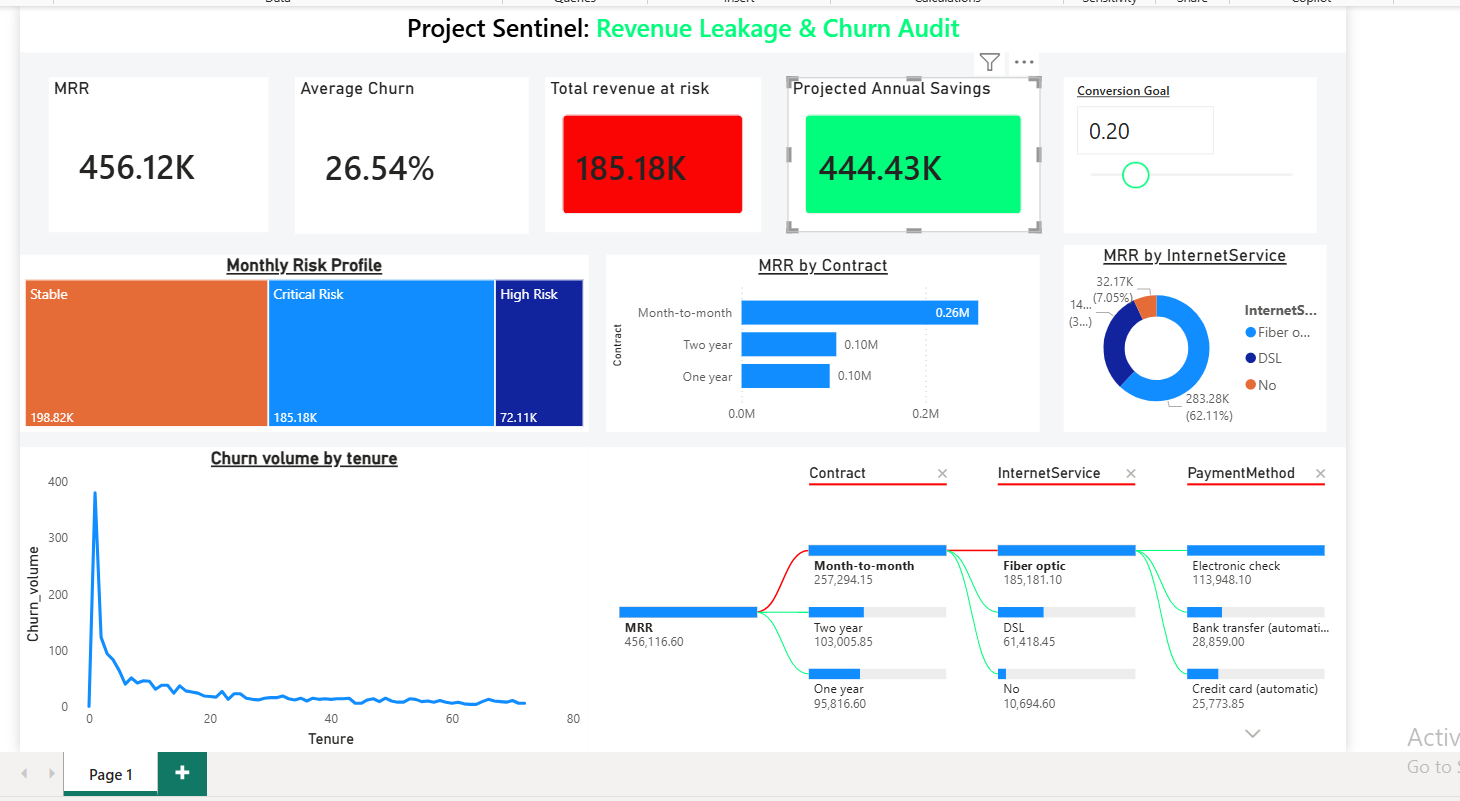

What the dashboard file says about the page in this screenshot:
{"tool":"powerbi","page":{"name":"Page 1","canvas":[1280,720],"ordinal":0},"visuals":[{"type":"cardVisual","title":"MRR","fields":{"Data":["Measures (2).MRR"]},"box":[27.7,68.8,212.3,149.6],"z":1000},{"type":"cardVisual","title":"Total revenue at risk","fields":{"Data":["Measures (2).Revenue_at_risk"]},"box":[506.7,68.8,208.7,149.6],"z":2000},{"type":"decompositionTreeVisual","fields":{"Analyze":["Sum(Project_Sentinel_Cleaned.MonthlyCharges)"],"ExplainBy":["Project_Sentinel_Cleaned.Contract","Project_Sentinel_Cleaned.InternetService","Project_Sentinel_Cleaned.PaymentMethod"]},"box":[548.9,425.9,731.1,294.4],"z":3000},{"type":"lineChart","title":"Churn volume by tenure","fields":{"Category":["Project_Sentinel_Cleaned.tenure"],"Y":["Sum(Project_Sentinel_Cleaned.Churn_encode)"]},"box":[0,425.9,548.9,294.4],"z":4000},{"type":"treemap","title":"Monthly Risk Profile","fields":{"Group":["Project_Sentinel_Cleaned.Revenue_Risk_Status"],"Values":["Sum(Project_Sentinel_Cleaned.MonthlyCharges)"]},"box":[0,240.1,548.9,171.3],"z":5000},{"type":"textbox","box":[0,0,1280,44.6],"z":6000},{"type":"slicer","fields":{"Values":["Conversion Goal.Conversion Goal"]},"box":[1007.4,68.8,243.7,149.6],"z":7000},{"type":"cardVisual","title":"Projected Annual Savings","fields":{"Data":["Measures (2).Projected Annual Savings"]},"box":[740.8,68.8,243.7,149.6],"z":8000},{"type":"barChart","fields":{"Y":["Measures (2).MRR"],"Category":["Project_Sentinel_Cleaned.Contract"]},"box":[565.8,240.1,418.6,171.3],"z":8001},{"type":"donutChart","fields":{"Y":["Measures (2).MRR"],"Category":["Project_Sentinel_Cleaned.InternetService"]},"box":[1007.4,230.4,253.4,181],"z":8002},{"type":"cardVisual","title":"Average Churn","fields":{"Data":["Measures (2).Avg_churn"]},"box":[265.4,68.8,225.6,150.8],"z":8003}]}

Visuals, with their boxes on the page's 1280x720 design canvas (x1, y1, x2, y2). These are canvas units, not pixel positions in the 1460x801 screenshot, which may show the page scaled, cropped or inside an application window:
"MRR" cardVisual: 28/69/240/218
"Total revenue at risk" cardVisual: 507/69/715/218
decompositionTreeVisual - Sum(Project_Sentinel_Cleaned.MonthlyCharges) x Project_Sentinel_Cleaned.Contract: 549/426/1280/720
"Churn volume by tenure" lineChart: 0/426/549/720
"Monthly Risk Profile" treemap: 0/240/549/411
textbox: 0/0/1280/45
slicer - Conversion Goal.Conversion Goal: 1007/69/1251/218
"Projected Annual Savings" cardVisual: 741/69/984/218
barChart - Measures (2).MRR x Project_Sentinel_Cleaned.Contract: 566/240/984/411
donutChart - Measures (2).MRR x Project_Sentinel_Cleaned.InternetService: 1007/230/1261/411
"Average Churn" cardVisual: 265/69/491/220
